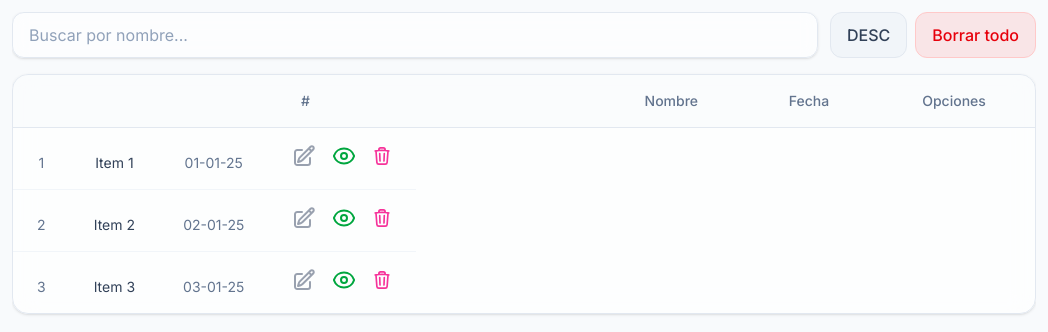
Test: BaseTable.vue › filters items by search term
This screenshot has width=1048, height=332.
Type "Item 2" into the field with placeholder "Buscar por nombre...".
click(415, 35); type("Item 2")  # box [12, 12, 818, 58]
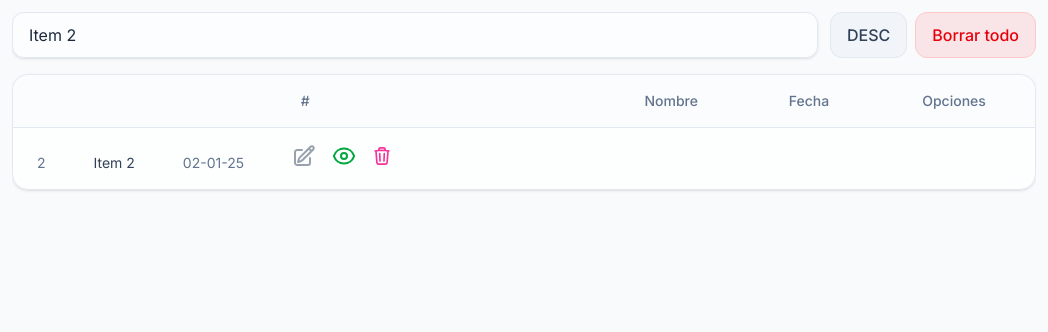
Expected: the text "Item 2" is shown, [70, 128, 159, 189]
Now the text "Item 1" is gone
Now the text "Item 3" is gone
